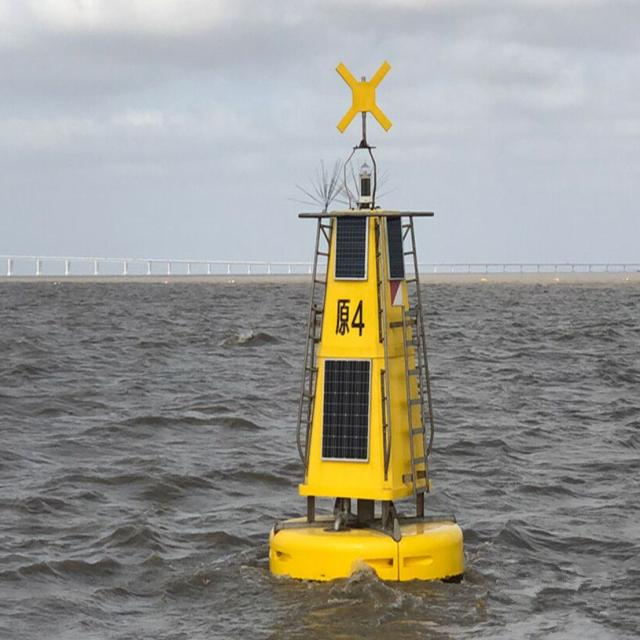buoy: (268, 56, 470, 586)
